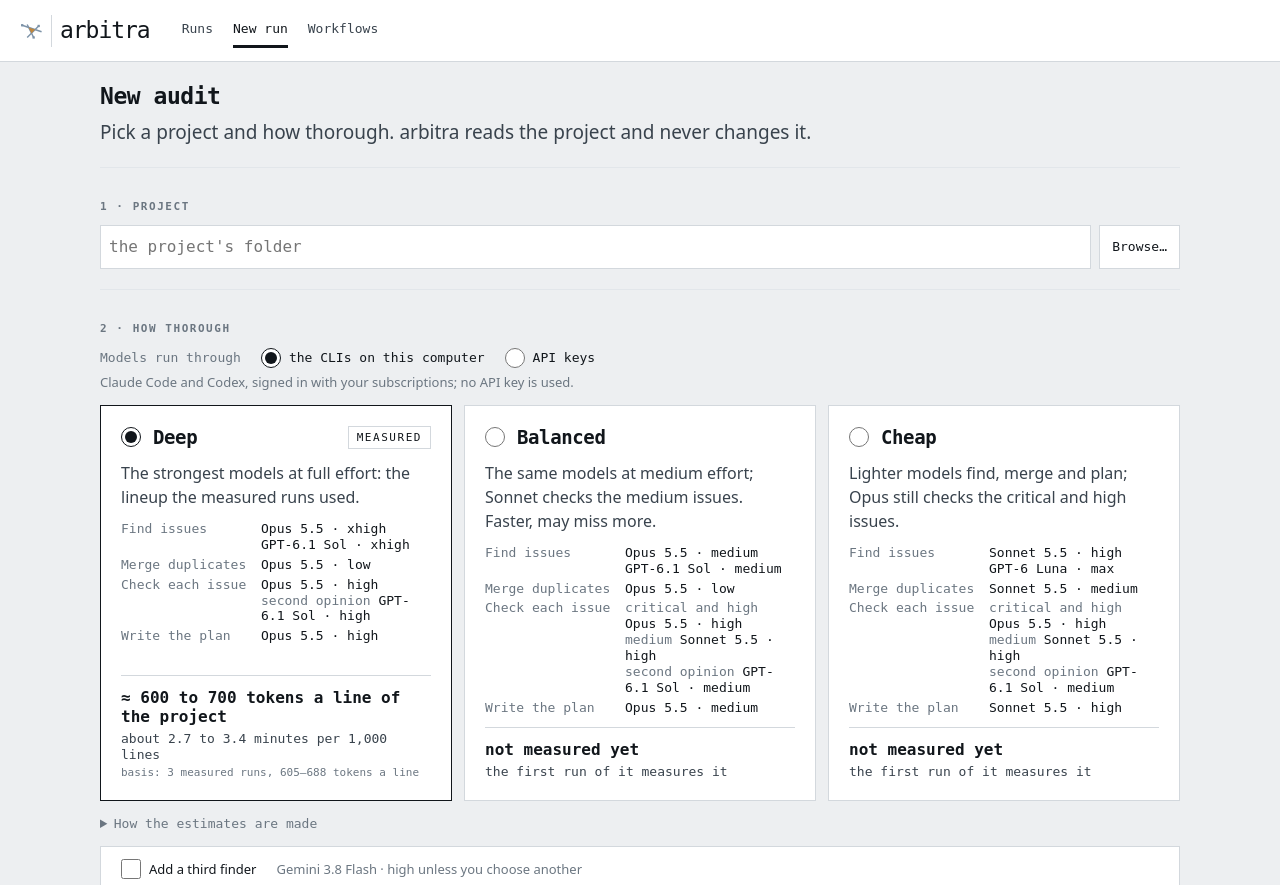
Scenario: the new-run page › reads the project once it is chosen, and says what each depth will use and on what basis
Expected: the radio button named "Deep" is shown, [121, 427, 141, 447]
Type "/work/fixture" into the field named "project folder".
click(596, 247); type("/work/fixture")  # box [100, 225, 1091, 269]
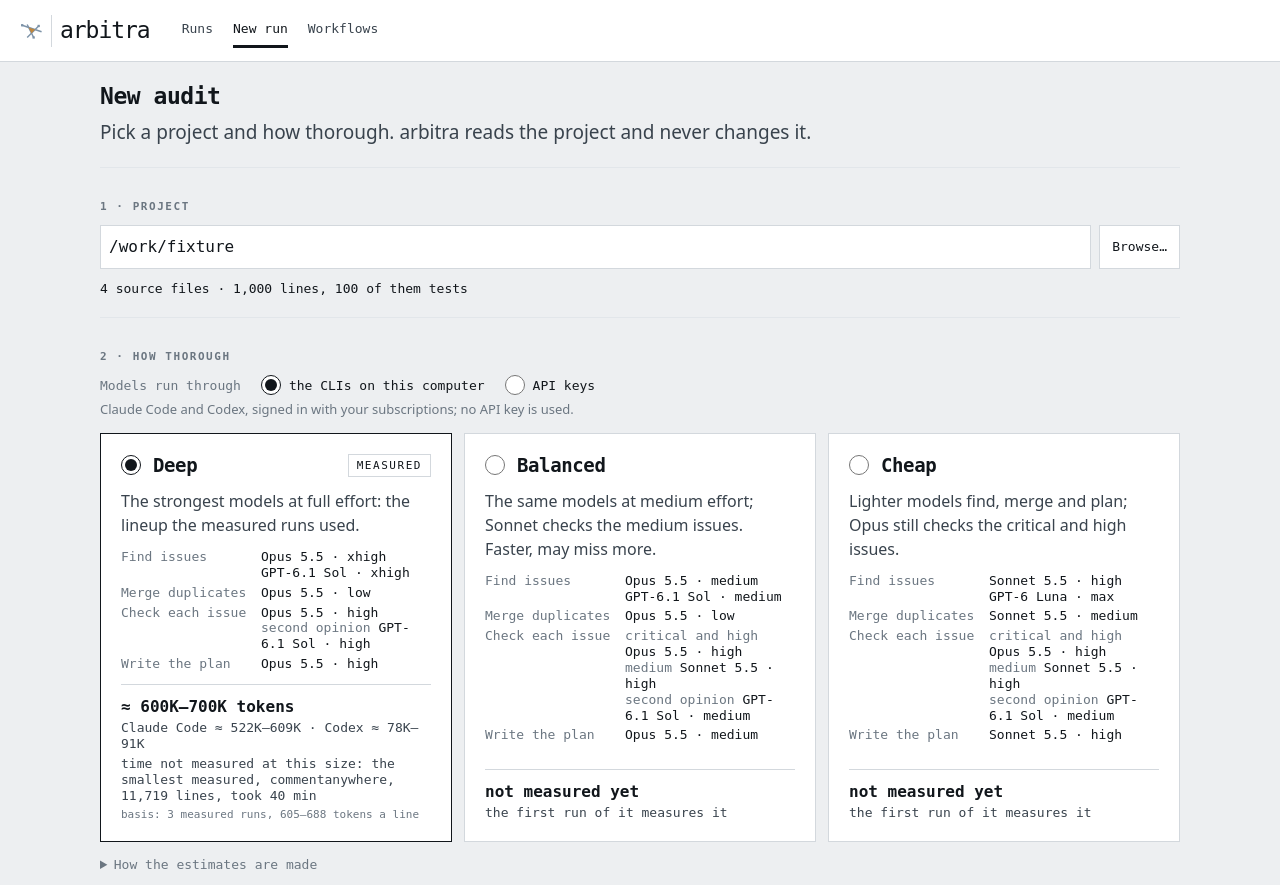
Result: the text "4 source files · 1,000 lines, 100 of them tests" is shown at [100, 281, 468, 296]
Result: the element that starts with "Deep" shows "≈ 600K–700K tokens" at [121, 697, 294, 716]
Result: the element that starts with "Deep" shows "Claude Code ≈ 522K–609K · Codex ≈ 78K–91K" at [121, 720, 418, 751]
